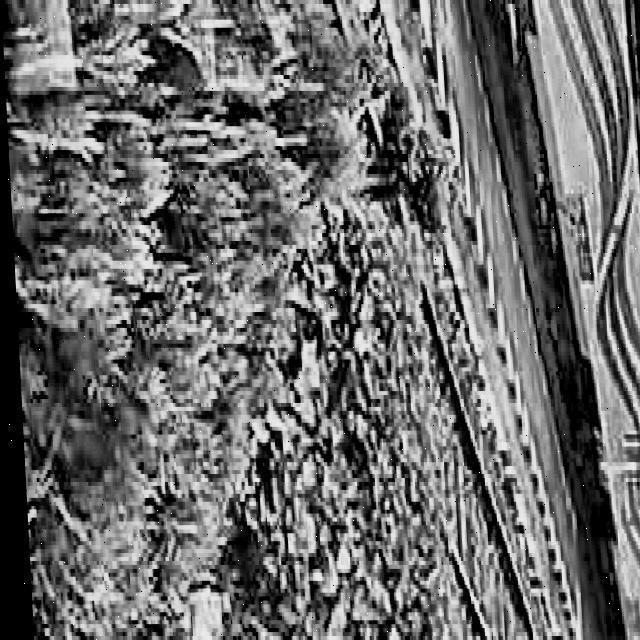Kereta: (462, 0, 640, 470), (558, 399, 640, 640)
